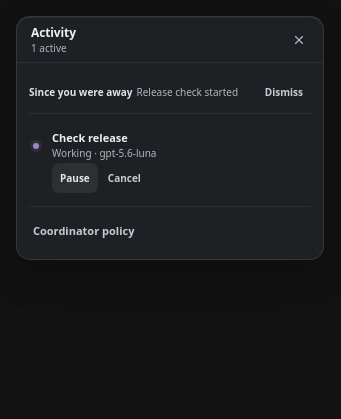
Test: FocusCoordination › keeps a redirect draft when its follow-up fails
The width and height of the screenshot is (341, 419).
Expected: the text "Since you were away" is shown, top-left (29, 85), bottom-right (132, 99)
Click the button "Check release Working · gpt-5.6-luna": point(182, 146) top-left (52, 129), bottom-right (311, 163)
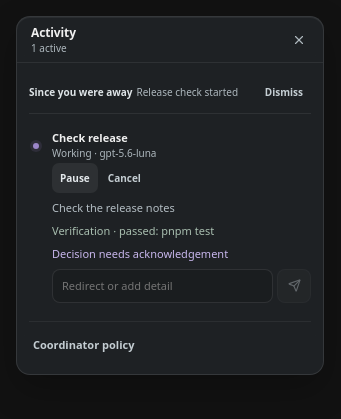
In the field named "Redirect Check release": point(162, 286) top-left (52, 269), bottom-right (273, 303), type "Keep this direction"
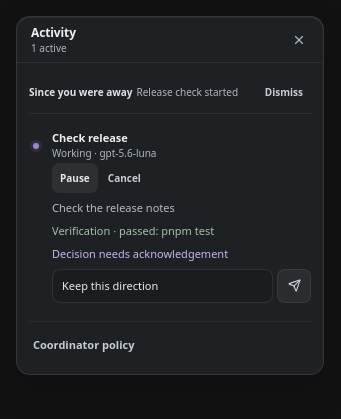
Submit the form named "Redirect Check release", box top-left (52, 269), bottom-right (311, 303)
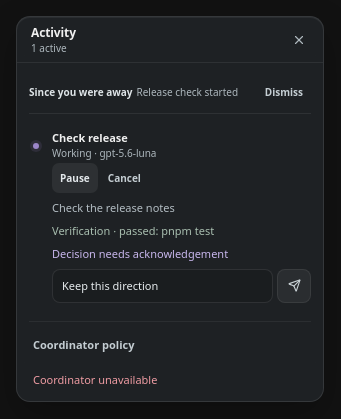
Now the message "Coordinator unavailable" is shown, box top-left (33, 372), bottom-right (157, 387)
